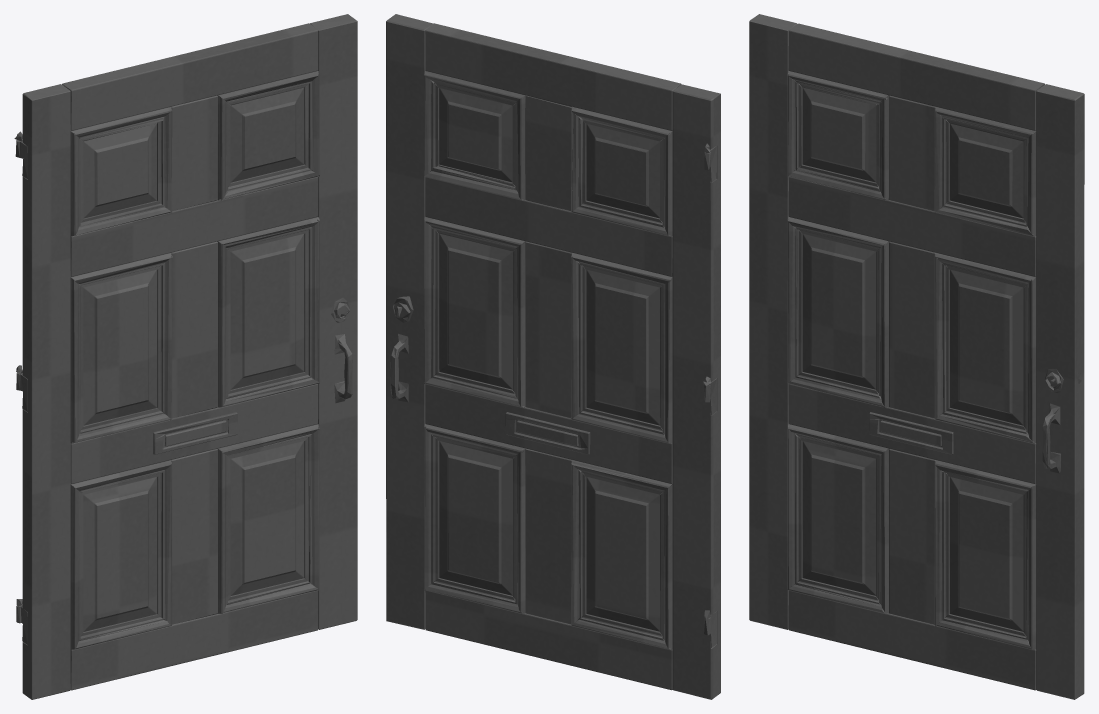
Rendered from SM_FrontDoor_A_Door.glb.
3 renders of one model, left to right at view 1: azimuth 30°, elevation 25°; view 2: azimuth 150°, elevation 25°; view 3: azimuth 330°, elevation 25°, orthographic.
Visible parts, largest first — view 1: SM_FrontDoor_A_Door; view 2: SM_FrontDoor_A_Door; view 3: SM_FrontDoor_A_Door.
Part boxes in pixels (box(x1,y1,x2,y2)): SM_FrontDoor_A_Door: box(14, 14, 357, 699); SM_FrontDoor_A_Door: box(386, 14, 720, 699); SM_FrontDoor_A_Door: box(749, 14, 1084, 699).
Bounding box in the file's own units: 126 × 220 × 22.04.
Materials: 1 (1 with a texture image).
